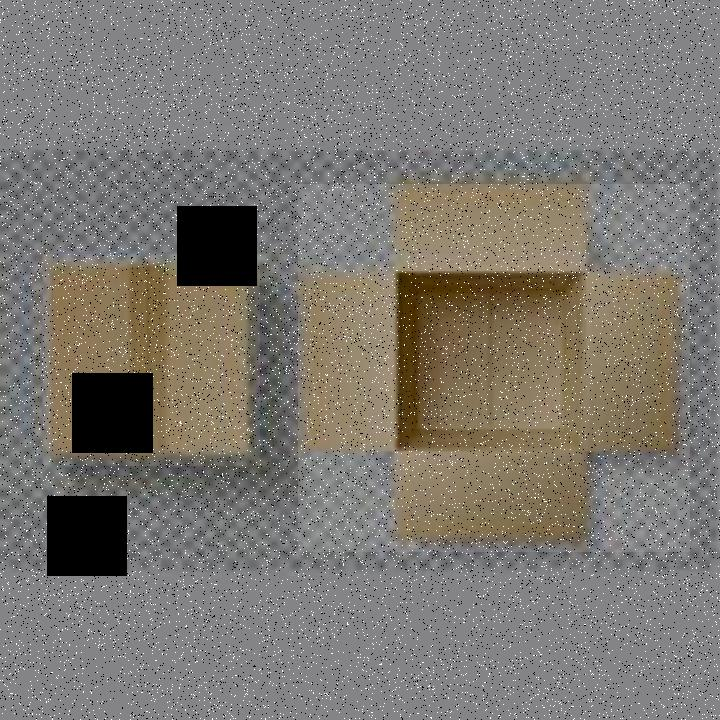box: (298, 184, 690, 552), (44, 254, 262, 466)
